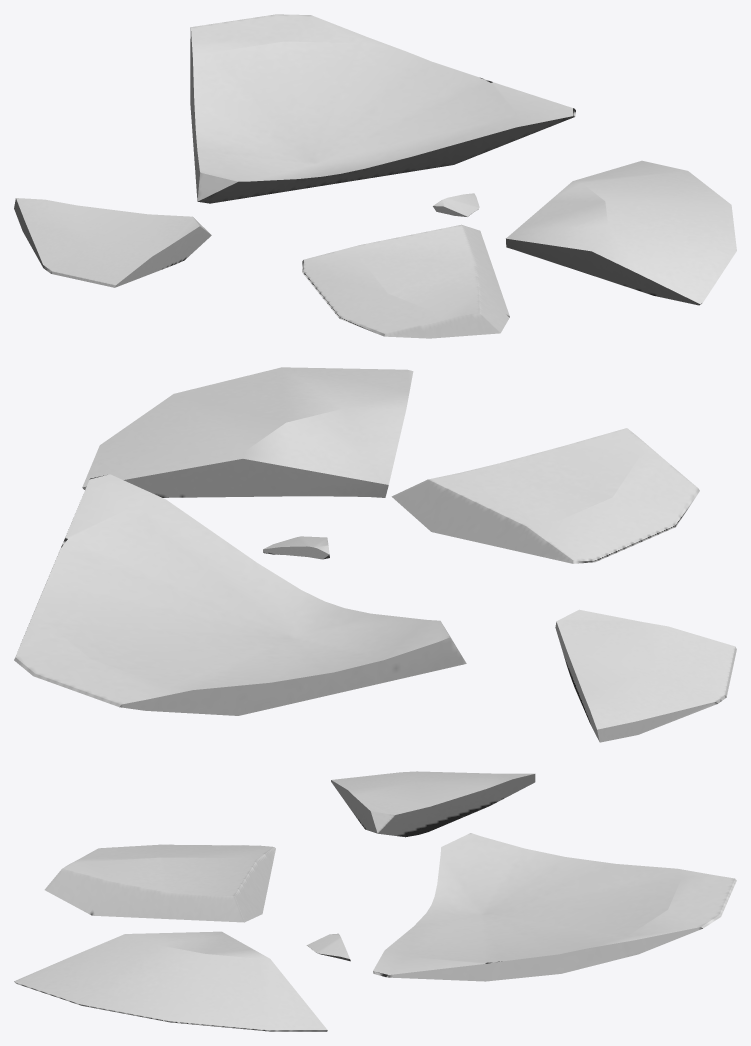
File: plateDeepBroken.fbx
3 renders of one model, top to bottom at view 1: azimuth 30°, elevation 25°; view 2: azimuth 150°, elevation 25°; view 3: azimuth 270°, elevation 25°, orthographic. The views are drawn at different scales.
Parts seen in each view (by area): view 1: plateDeepBroken; view 2: plateDeepBroken; view 3: plateDeepBroken.
Part boxes in pixels (<box>): plateDeepBroken: <box>14,14,736,338</box>; plateDeepBroken: <box>14,367,736,742</box>; plateDeepBroken: <box>14,771,736,1031</box>.
Size of the model in its own units: 0.4698 by 0.041 by 0.5318.
Materials: 1 (1 with a texture image).
